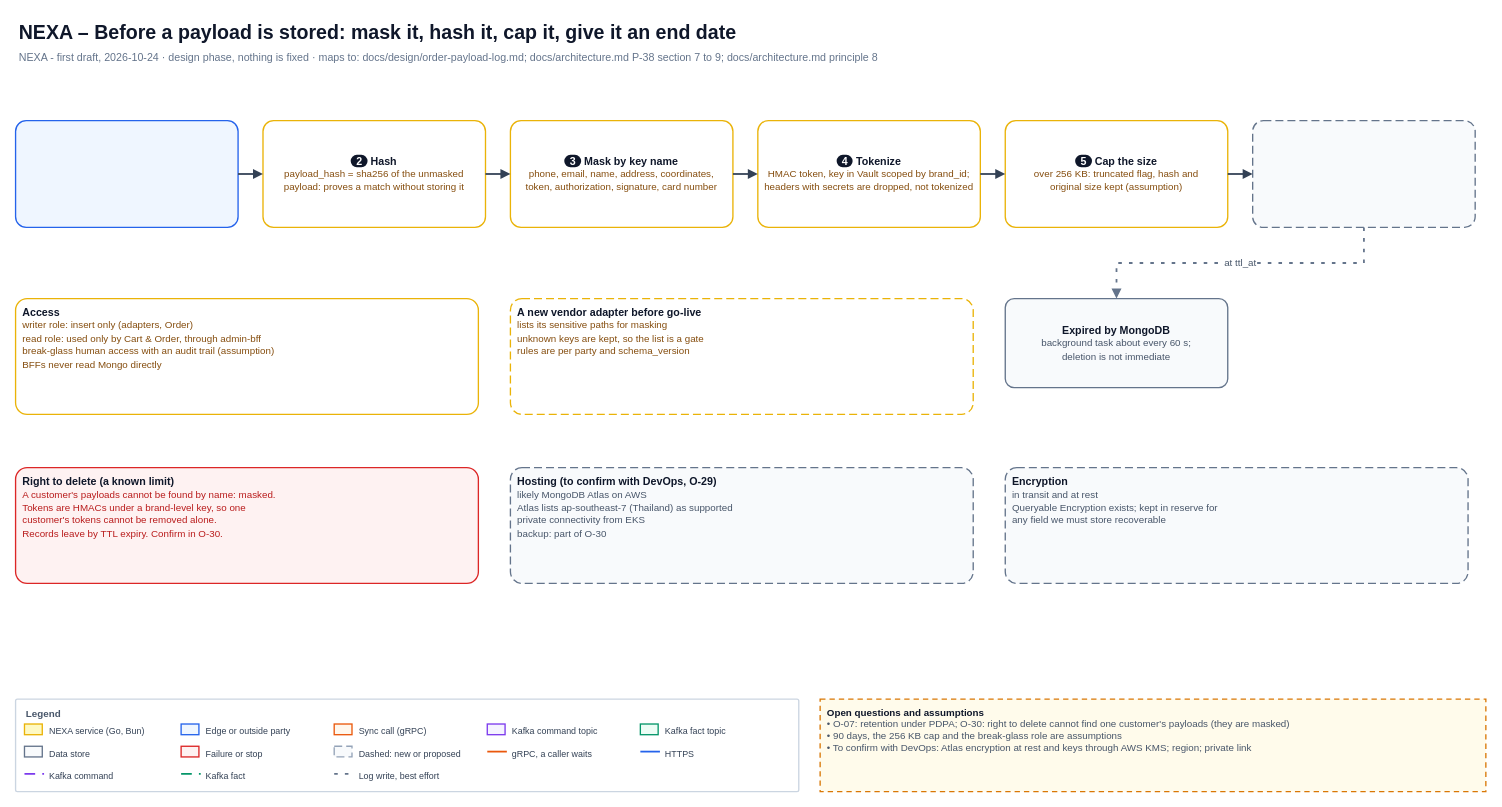
The diagram is 1502 pixels wide and 807 high, and some of its shapes have lost their labels. Here are the shapes that lost their labels. From the top down, the centre of each, then its label:
At [126,174]: "1 Raw payload as received from the outside party".
At [1363,174]: "6 Insert with ttl_at assumption: 90 days, shorter if PDPA says so".
